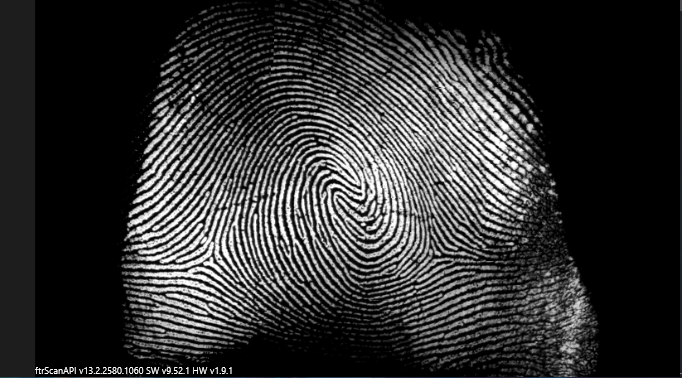deltas: (183, 234, 233, 283), (413, 222, 461, 271)
nucleo: (317, 144, 389, 215)
